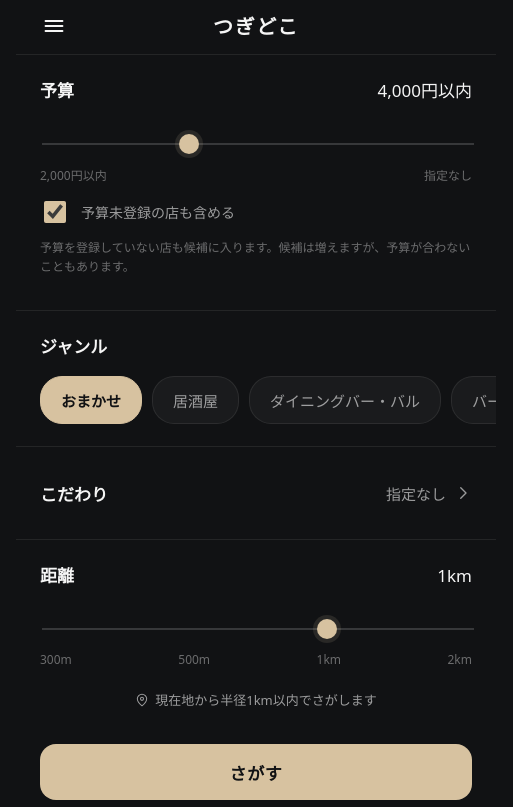
Test case: 検索 › OKボタンは a 要素で、新しいタブを開く
Step 1. Click the button "さがす" → (256, 772), box [40, 744, 472, 800]
(page scrolled)
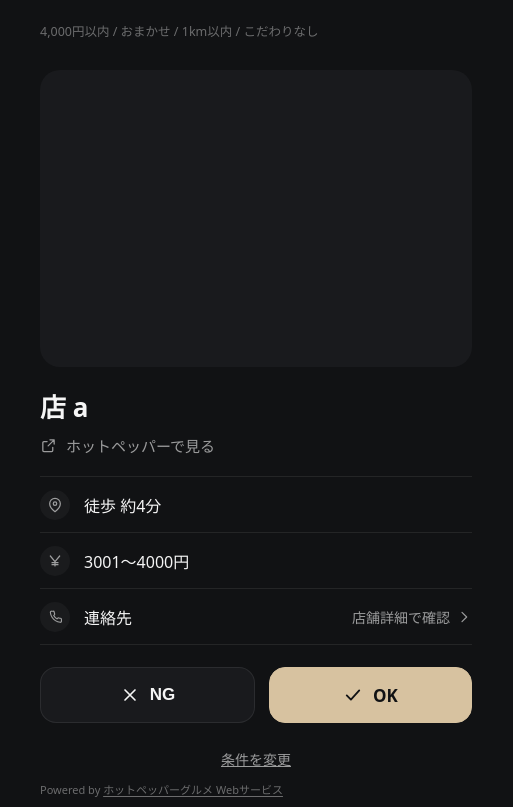
Expected: the link "OK" is shown, [269, 667, 472, 723]
